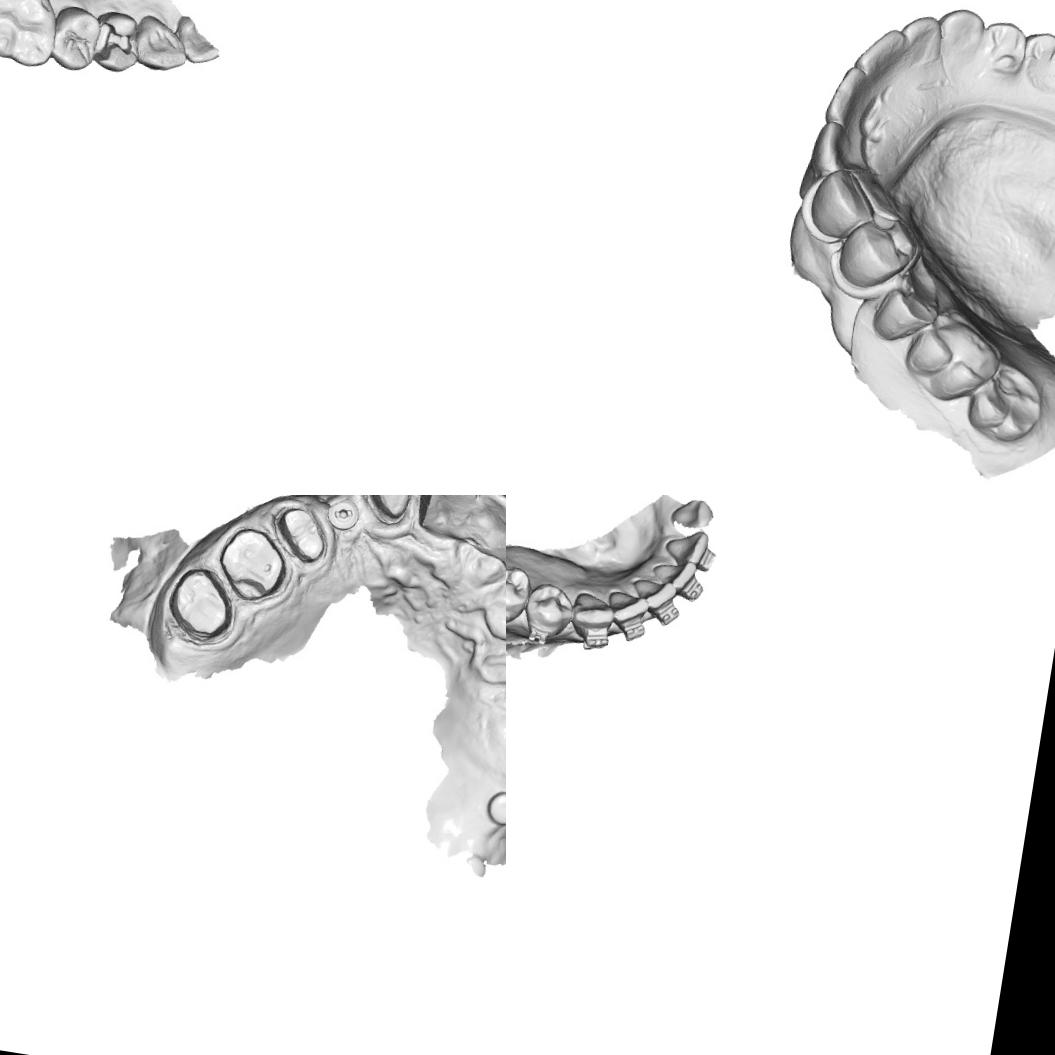canine: (806, 166, 882, 246), (130, 10, 194, 75), (932, 3, 993, 71), (567, 588, 620, 642), (667, 495, 714, 534)
crown: (212, 522, 294, 608), (162, 561, 240, 649), (272, 504, 332, 572), (364, 495, 420, 525)
implant: (482, 787, 506, 828)
implant_minus: (321, 495, 364, 534)
incisor: (822, 61, 884, 128), (854, 22, 911, 78), (415, 495, 482, 540), (810, 122, 862, 178), (464, 495, 506, 562), (895, 10, 944, 65), (662, 524, 714, 570), (602, 586, 650, 632), (628, 575, 680, 615), (648, 558, 700, 594)
inlay: (90, 17, 138, 66)
molar: (899, 313, 1004, 412), (963, 360, 1046, 444), (0, 0, 62, 70)
premolar: (839, 218, 917, 288), (47, 3, 106, 75), (870, 280, 936, 344), (519, 576, 578, 644), (978, 15, 1033, 80), (506, 560, 535, 632), (1020, 29, 1055, 83)
